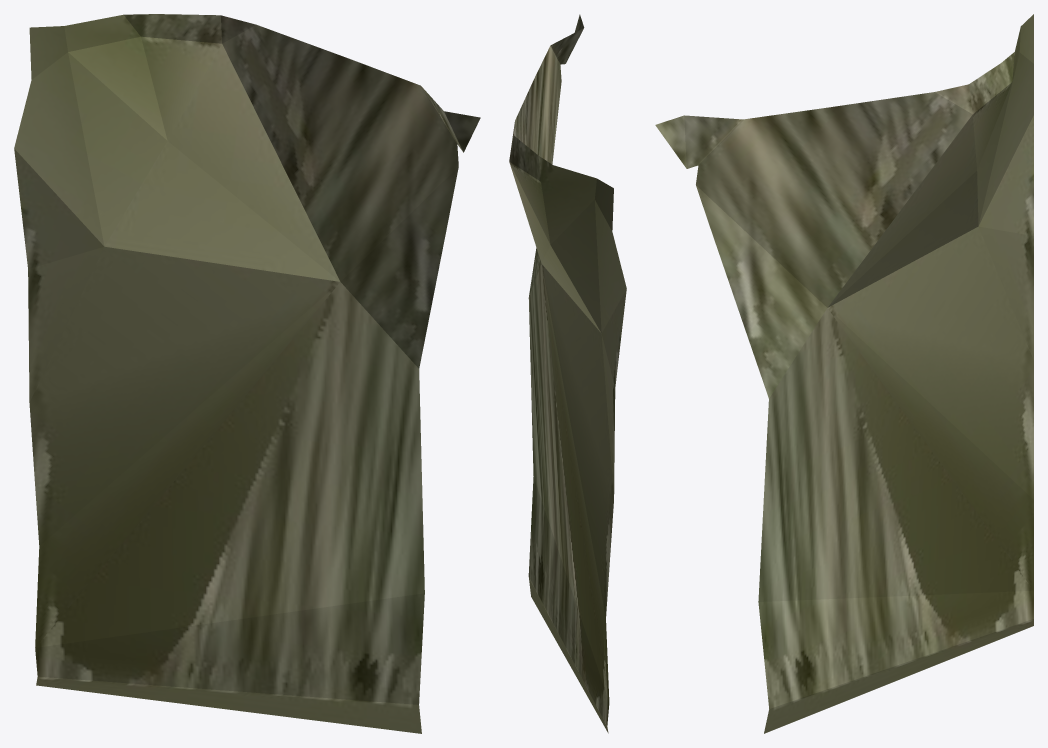
3 views of the same model, side by side, from view 1: azimuth 30°, elevation 25°; view 2: azimuth 150°, elevation 25°; view 3: azimuth 270°, elevation 25° (orthographic). The views are drawn at different scales.
Size of the model in its own units: 1.22 by 2.95 by 1.66.
2 materials, 2 textured.
